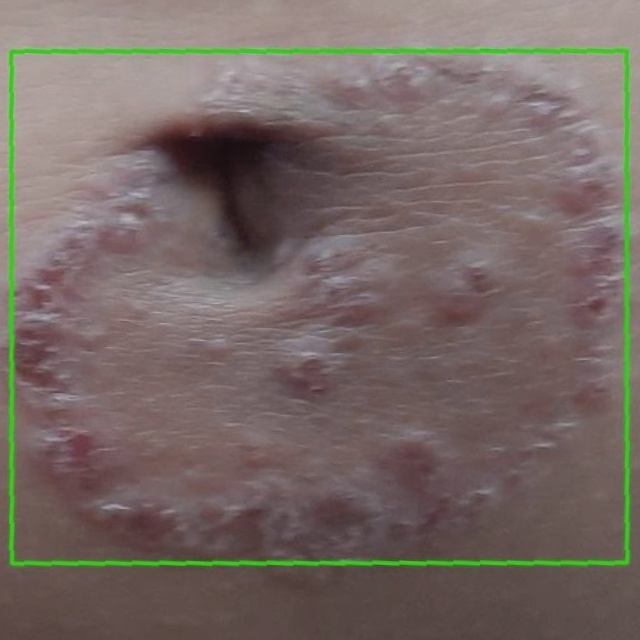Tinea Corporis: (11, 51, 626, 564)
